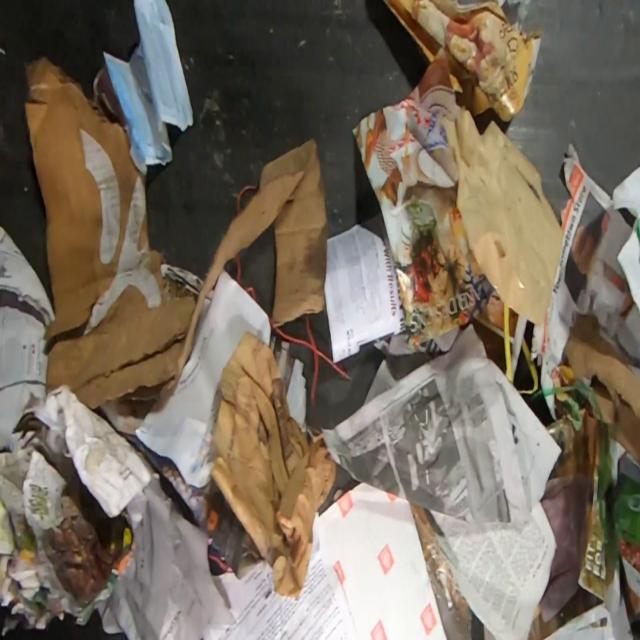cardboard: (23, 53, 199, 420), (163, 136, 330, 393), (382, 0, 542, 124), (562, 310, 640, 466)
